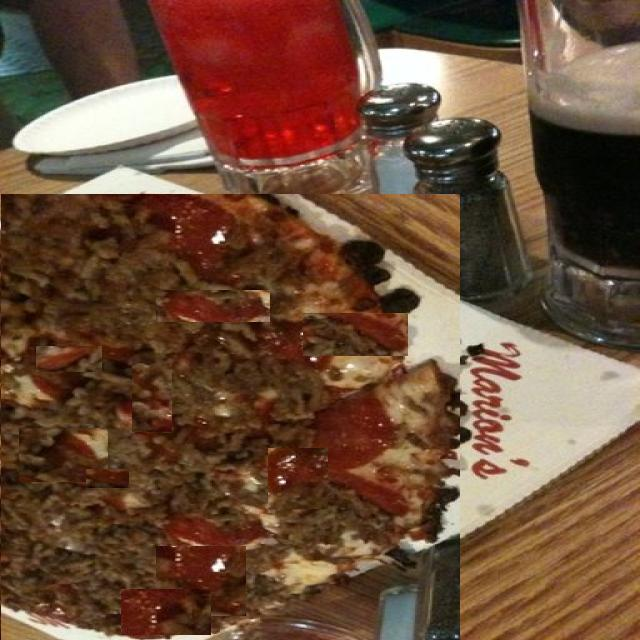pepperoni: (290, 362, 390, 442), (156, 546, 246, 616), (19, 428, 108, 482), (304, 313, 409, 356), (121, 589, 211, 635), (268, 448, 328, 509), (157, 290, 270, 322), (132, 363, 172, 432), (36, 346, 102, 372), (94, 314, 130, 338), (86, 470, 129, 490)
pizza: (1, 194, 460, 640)
